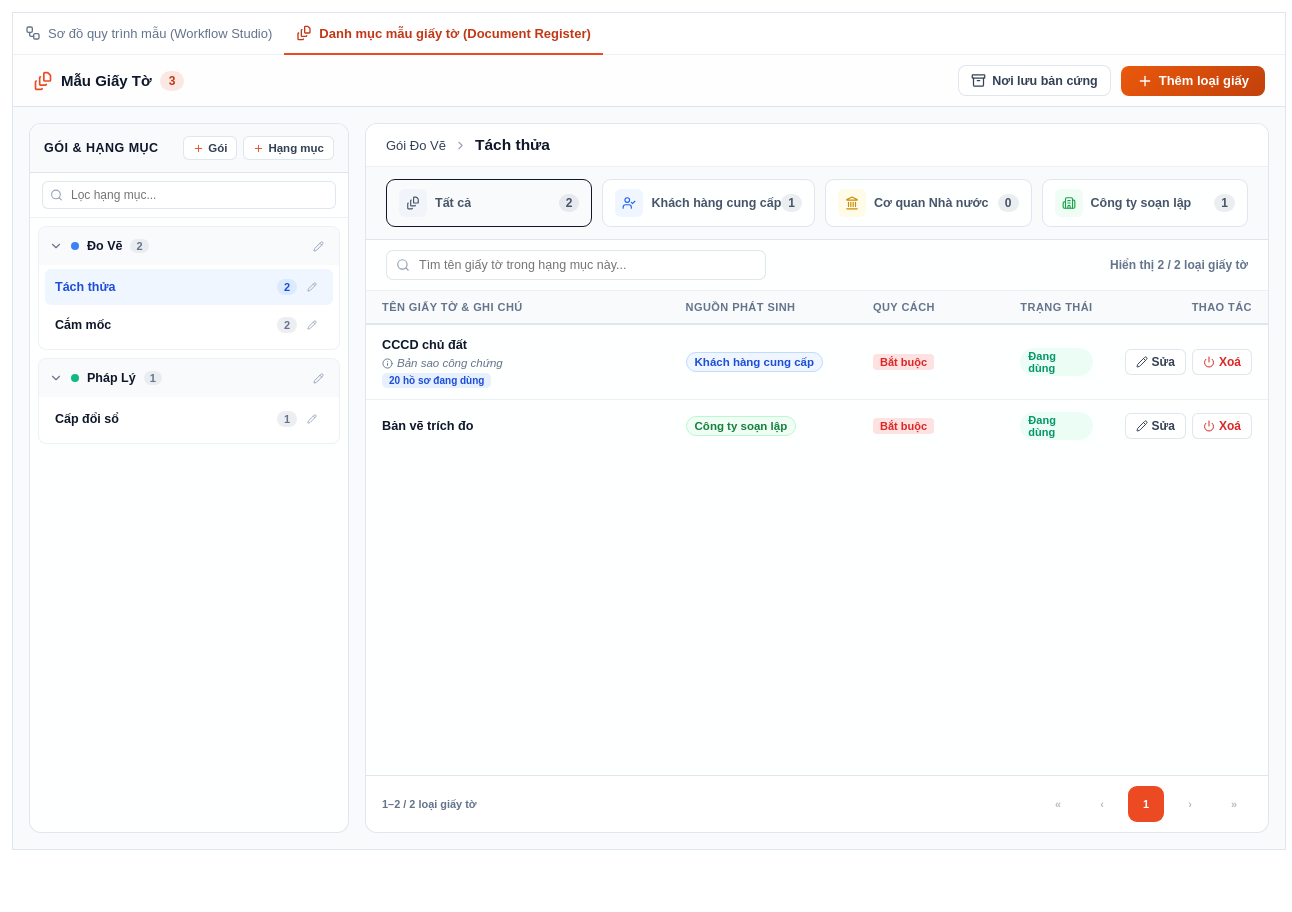
Test case: DocumentTemplateSettings — Bố cục 2 vùng Enterprise › đổi hạng mục thì giấy khai riêng cho hạng mục cũ biến mất, hiển thị giấy hạng mục mới
Expected: the heading "Tách thửa" is shown, [475,136,550,154]
Expected: the text "Bản vẽ trích đo" is shown, [382,418,473,432]
Note: Chuyển sang hạng mục "Cắm mốc" ở catalog bên trái
Click the text "Cắm mốc" at point(83, 325), box [55,318,111,332]
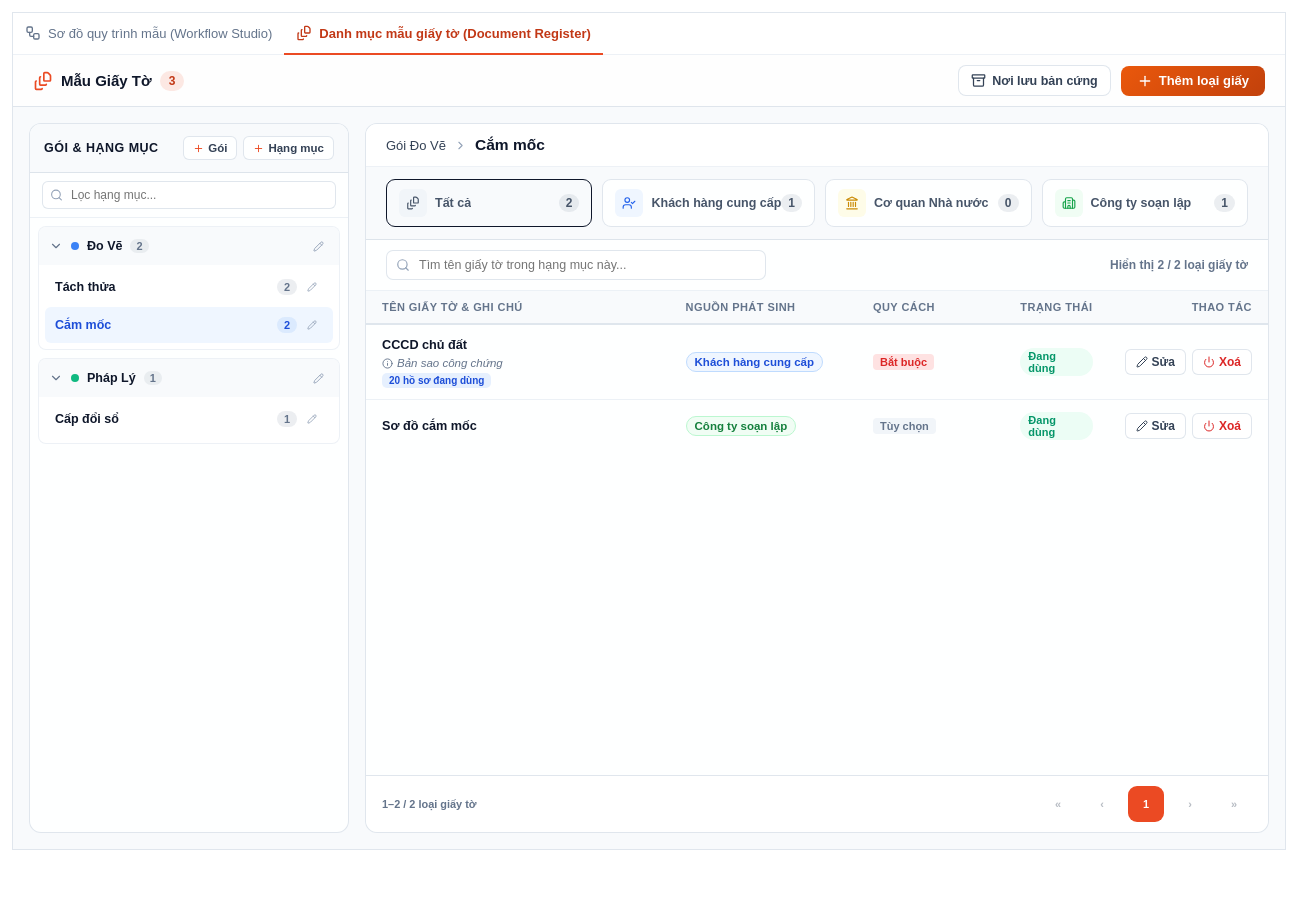
Expected: the heading "Cắm mốc" is shown, [475,136,545,154]
Expected: the text "Bản vẽ trích đo" is gone
Expected: the text "Sơ đồ cắm mốc" is shown, [382,418,477,432]
